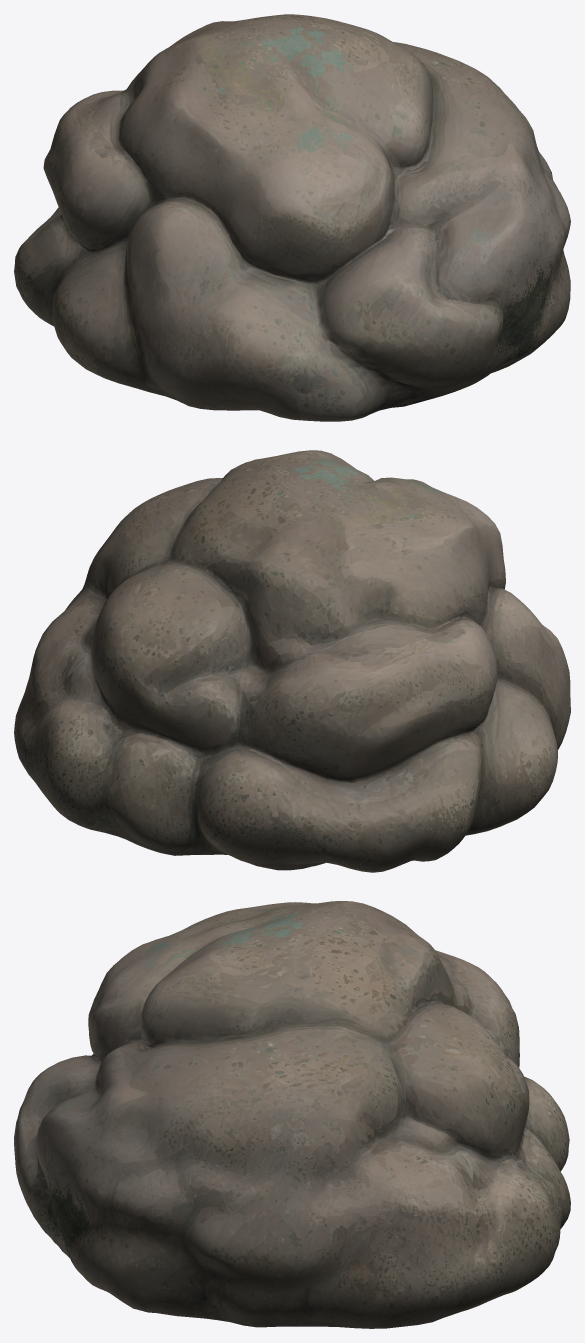
File: Prop_GrayLump.fbx
3 renders of one model, top to bottom at view 1: azimuth 30°, elevation 25°; view 2: azimuth 150°, elevation 25°; view 3: azimuth 270°, elevation 25°, orthographic. The views are drawn at different scales.
Visible parts, largest first — view 1: texture_mapping; view 2: texture_mapping; view 3: texture_mapping.
Boxes of the visible parts, <box> form: texture_mapping: <box>14,14,570,421</box>; texture_mapping: <box>14,450,570,872</box>; texture_mapping: <box>14,901,570,1328</box>.
Bounding box in the file's own units: 1 × 0.9967 × 0.5981.
Materials: 1 (1 with a texture image).
